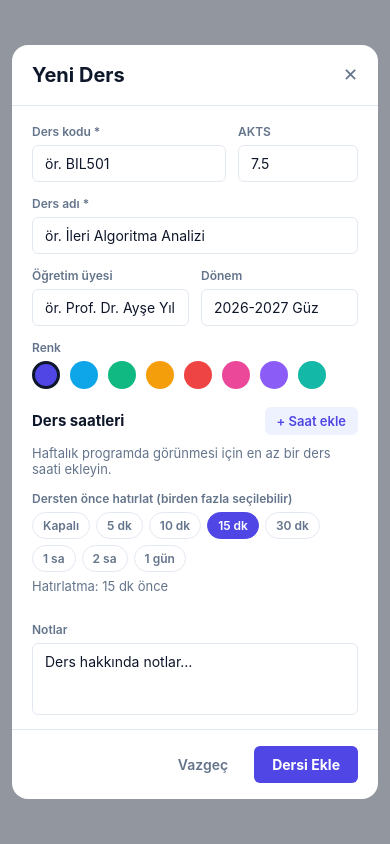
Test case: CourseForm — doğrulama › geçersiz AKTS (-2) reddedilir
Type "bil501" into the field with placeholder "ör. BIL501" at point(129, 163), box [32, 145, 226, 182]
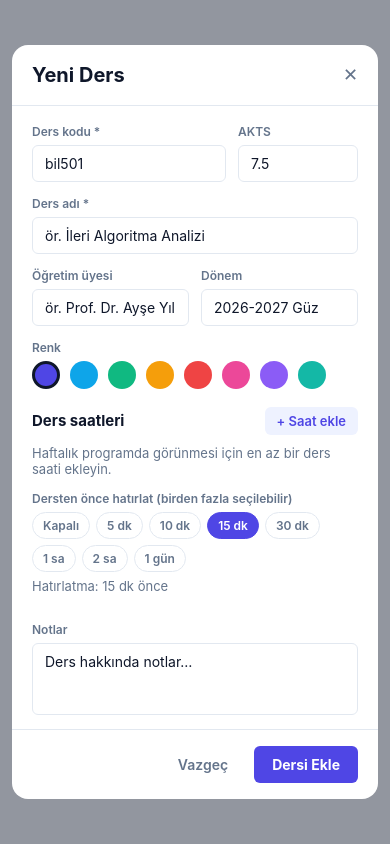
Type "Algoritmalar" into the field with placeholder "ör. İleri Algoritma Analizi" at point(195, 235), box [32, 217, 358, 254]
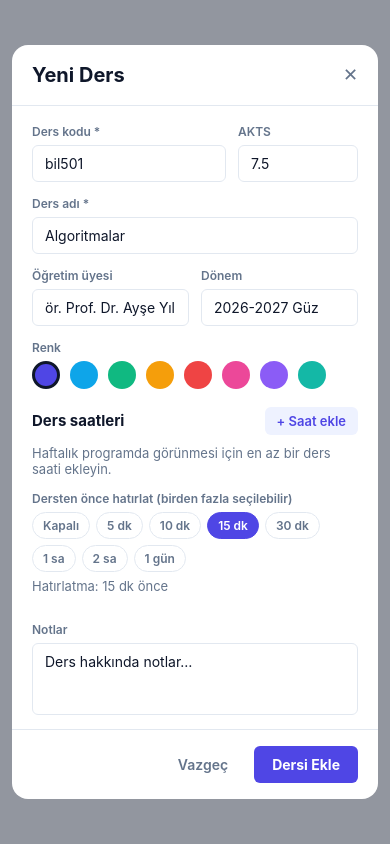
Replace the text in the field showing "7.5" below "AKTS" with "-2" at point(298, 163), box [238, 145, 358, 182]
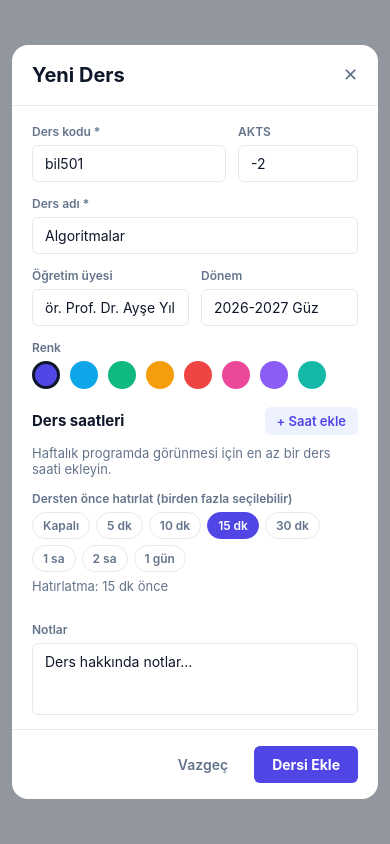
Click the text "Dersi Ekle" at point(306, 765), box [272, 756, 340, 773]
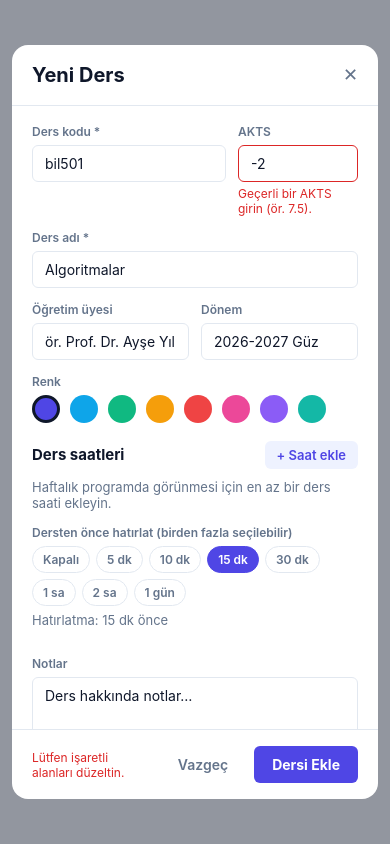
Now the text "Geçerli bir AKTS girin (ör. 7.5)." is shown, box [238, 186, 335, 216]
